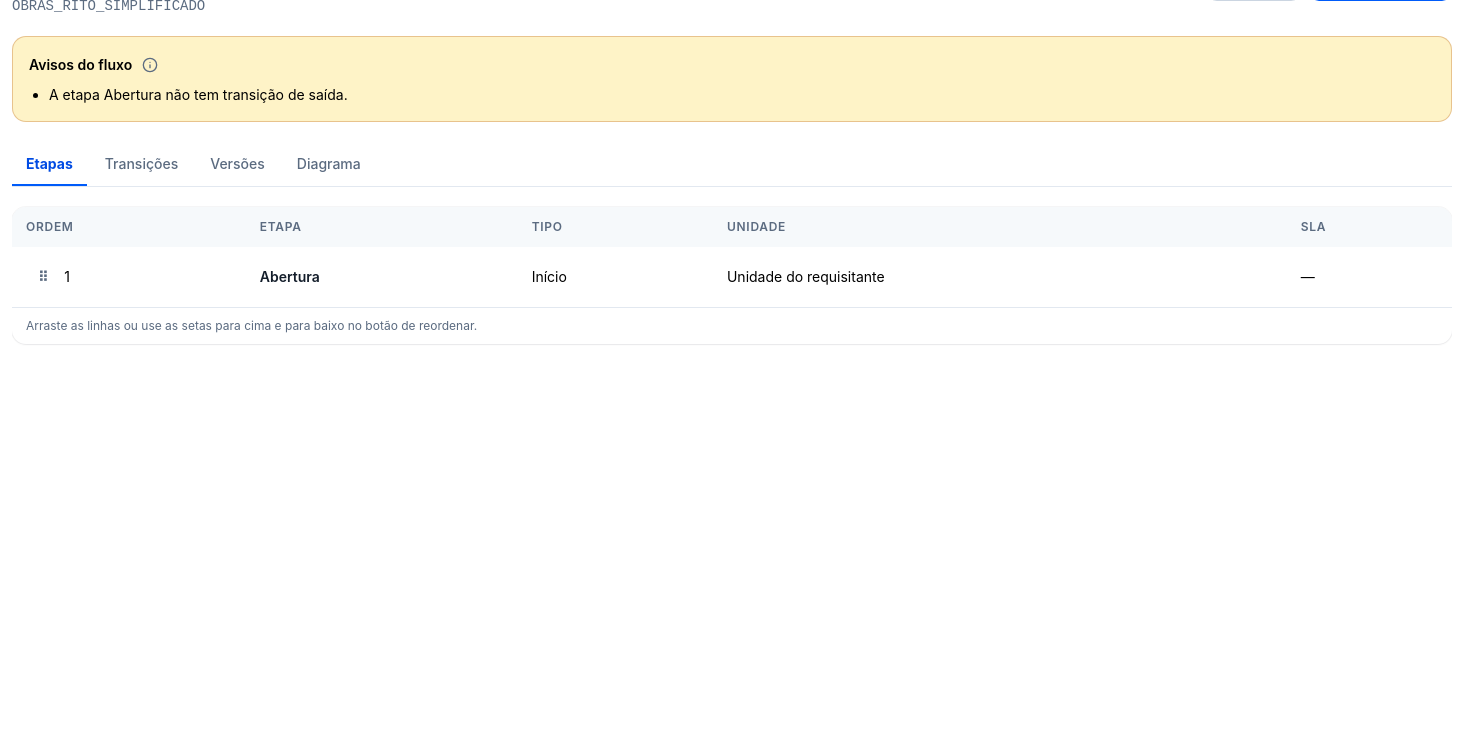
SCR-034 · editor de workflow (US-043) › [Validação] FA-01: excluir etapa referenciada lista as transições que a usam
This screenshot has width=1464, height=735.
What coordinates should you click on to do the following:
click the button with aria-label "Abrir as propriedades de Abertura"
I would click on:
 (290, 277)
Its box is [260,267,320,287].
(page scrolled)
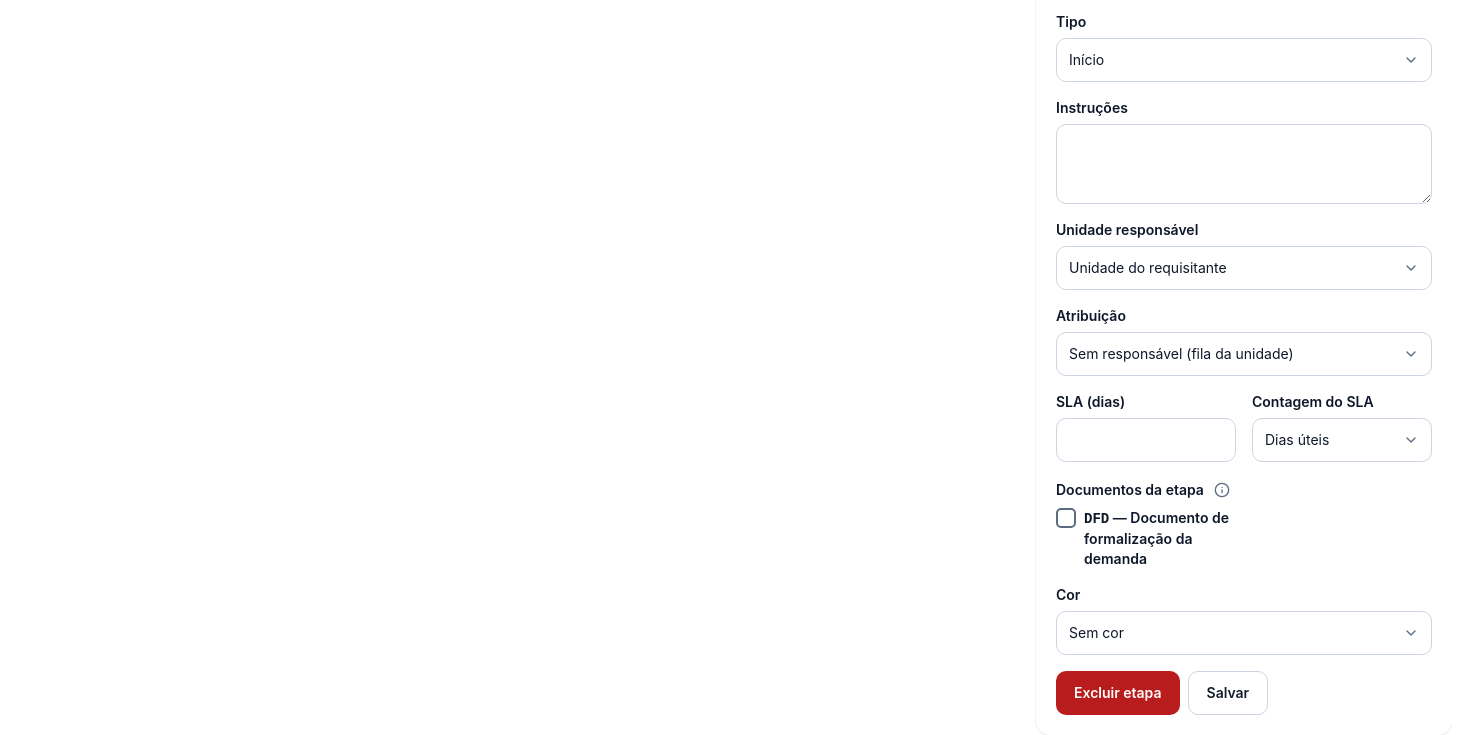
What coordinates should you click on to do the following:
click the button "Excluir etapa"
I would click on:
 (1118, 693)
Its box is [1056,671,1180,715].
(page scrolled)
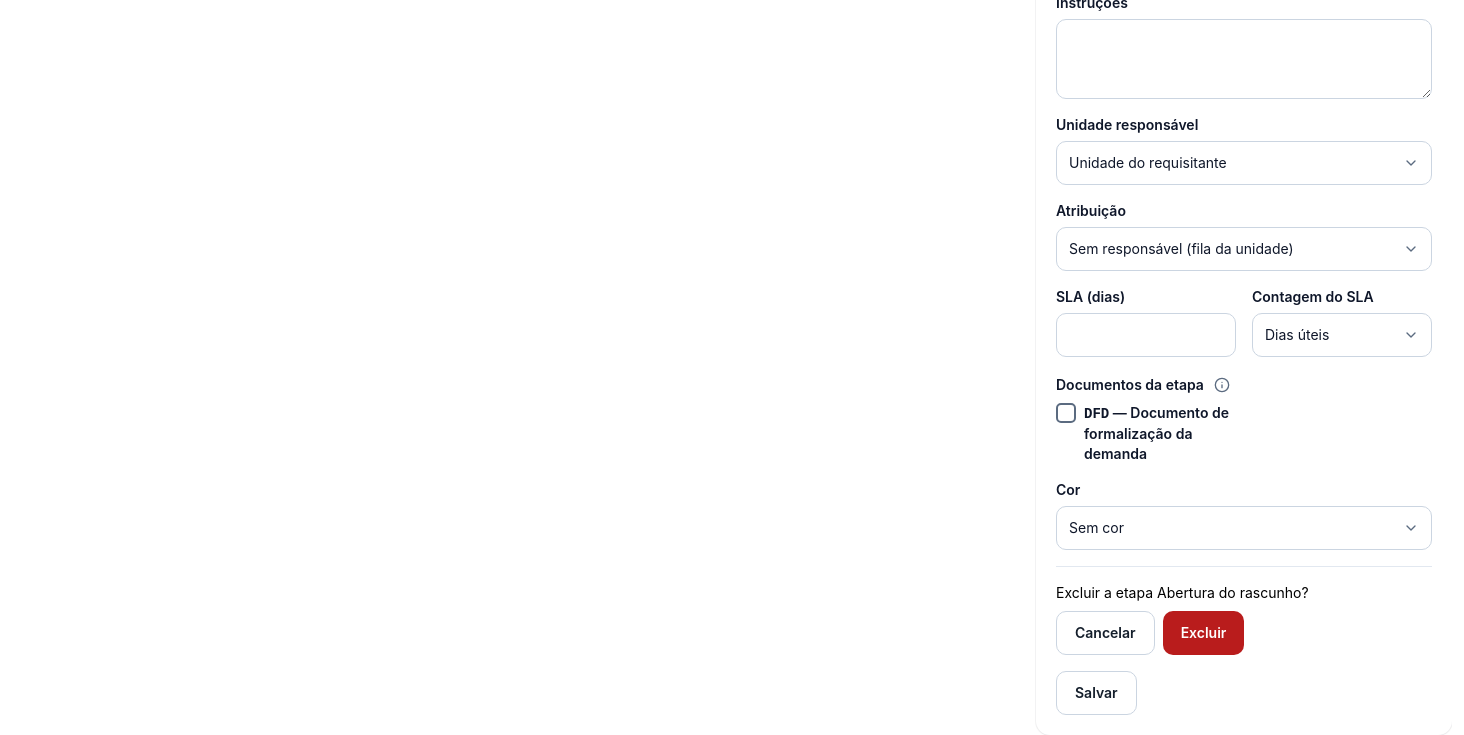
What coordinates should you click on to do the following:
click the button "Excluir"
I would click on:
 (1204, 633)
Its box is [1163,611,1244,655].
(page scrolled)
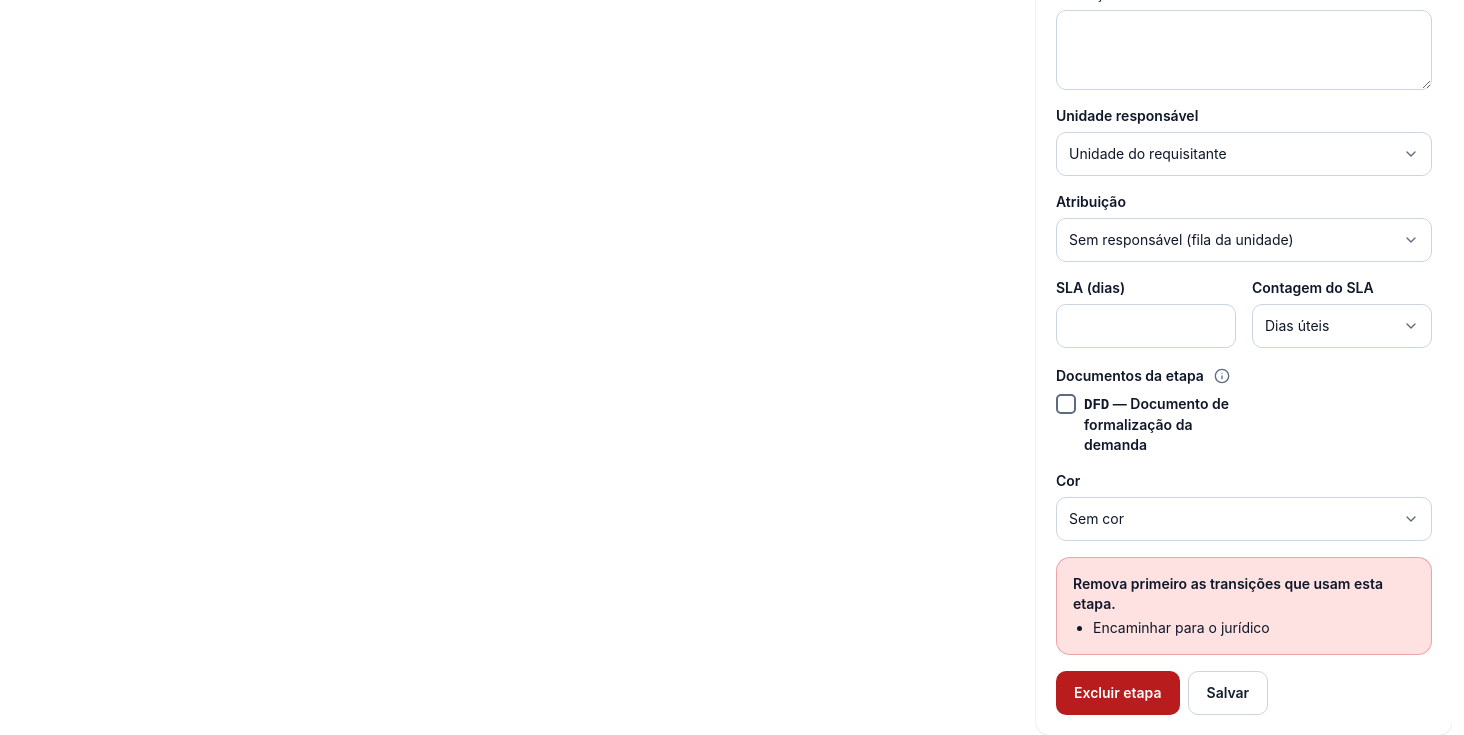
Check: the text "Remova primeiro as transições que usam esta etapa." is shown, box [1073,574,1415,614]
Check: the list item "Encaminhar para o jurídico" is shown, box [1093,619,1270,636]
